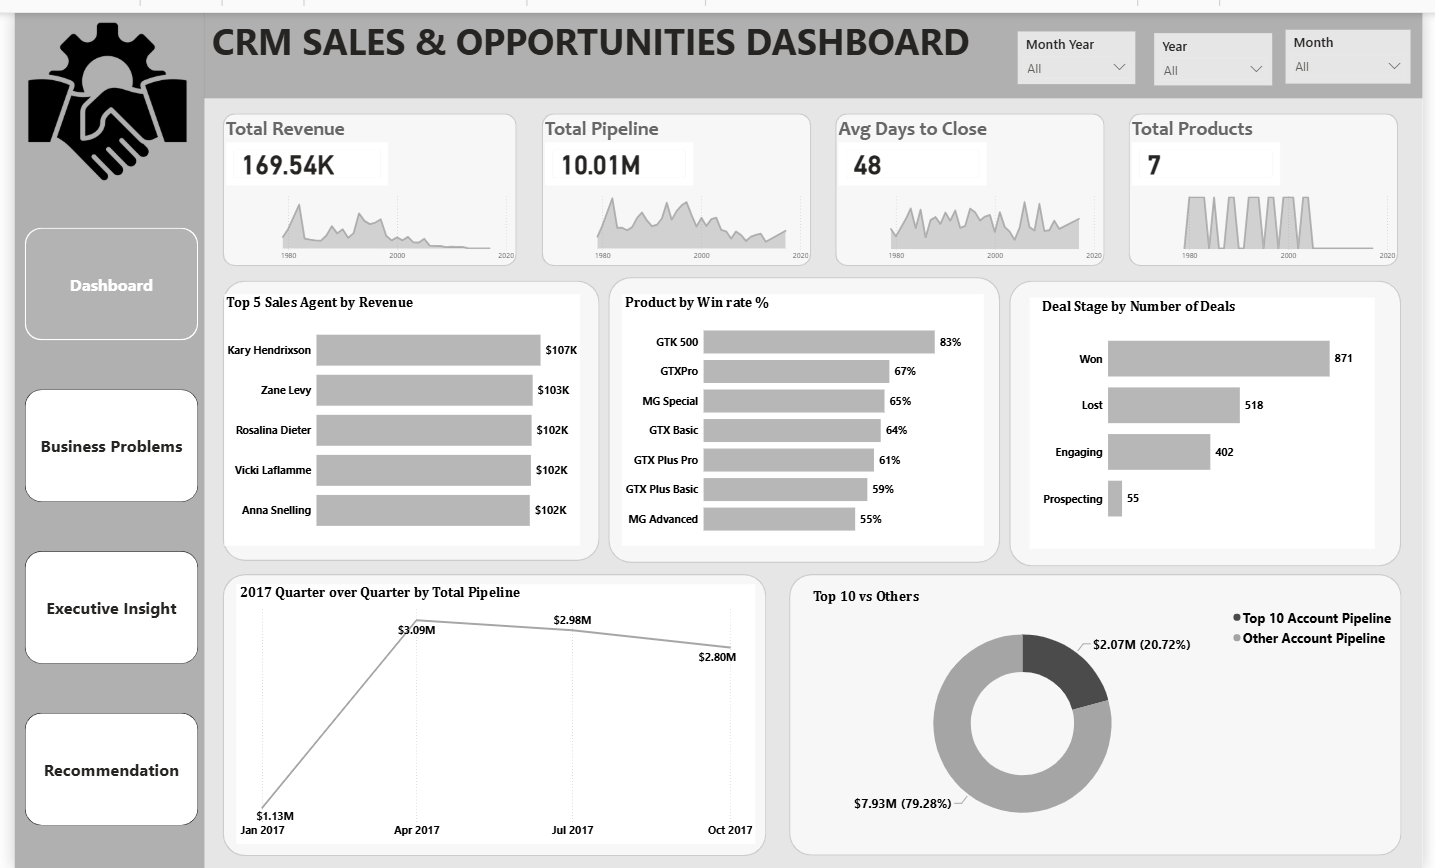

The dashboard page shown, as its layout file describes it:
{"tool":"powerbi","page":{"name":"Dashboard","canvas":[2300,1400],"ordinal":0},"visuals":[{"type":"shape","box":[0,0,310,1400],"z":0},{"type":"slicer","fields":{"Values":["Date Table.Year"]},"box":[1860.5,31.2,192.5,85],"z":0,"group":"g1"},{"type":"shape","box":[310.2,0,1989.8,139.8],"z":1000},{"type":"slicer","fields":{"Values":["Date Table.Month"]},"box":[2076,26.6,203.7,88.3],"z":1000,"group":"g1"},{"type":"slicer","fields":{"Values":["Date Table.Month Year"]},"box":[1638,30,192,86],"z":2000,"group":"g1"},{"type":"shape","box":[1820,165.5,440,249.5],"z":2000},{"type":"shape","box":[1340,165.5,440,249.5],"z":3000},{"type":"shape","box":[860,165.5,440,249.5],"z":4000},{"type":"shape","box":[340,165.5,480,249.5],"z":5000},{"type":"textbox","box":[316.3,0,1313.3,100],"z":6000},{"type":"group","id":"g1","title":"Group 1","box":[1638,26.6,641.8,89.6],"z":7000},{"type":"cardVisual","fields":{"Data":["products.Total Products"]},"box":[1820,206.1,252.2,81.2],"z":8000},{"type":"cardVisual","fields":{"Data":["sales_pipeline.Avg Days to Close"]},"box":[1340,206.1,252.2,81.2],"z":9000},{"type":"cardVisual","fields":{"Data":["sales_pipeline.Total Pipeline"]},"box":[860,206.1,252.2,81.2],"z":10000},{"type":"cardVisual","fields":{"Data":["accounts.Total Revenue"]},"box":[340,206.1,275.1,81.2],"z":11000},{"type":"textbox","box":[1820,165,371.2,77.9],"z":12000},{"type":"textbox","box":[1340,165,371.2,77.9],"z":13000},{"type":"textbox","box":[860,165,371.2,77.9],"z":14000},{"type":"textbox","box":[340,165,404.9,77.9],"z":15000},{"type":"areaChart","fields":{"Category":["accounts.year_established"],"Y":["products.Total Products"]},"box":[1820,287.3,440,127.7],"z":16000},{"type":"areaChart","fields":{"Category":["accounts.year_established"],"Y":["sales_pipeline.Avg Days to Close"]},"box":[1340,287.3,440,127.7],"z":17000},{"type":"shape","box":[340.2,436.1,615.5,457.7],"z":18000},{"type":"areaChart","fields":{"Category":["accounts.year_established"],"Y":["sales_pipeline.Total Pipeline"]},"box":[860,287.3,440,127.7],"z":19000},{"type":"areaChart","fields":{"Category":["accounts.year_established"],"Y":["accounts.Total Revenue"]},"box":[340,287.3,480,127.7],"z":20000},{"type":"clusteredBarChart","title":"Top 5 Sales Agent by Revenue","fields":{"Y":["accounts.Total Revenue"],"Category":["sales_teams.sales_agent"]},"box":[343,458.4,580.7,410.9],"z":21000},{"type":"shape","box":[340.2,915.5,887.6,460.8],"z":22000},{"type":"lineChart","title":"2017 Quarter over Quarter by Total Pipeline","fields":{"Category":["Date Table.Date.Variation.Date Hierarchy.Year","Date Table.Date.Variation.Date Hierarchy.Quarter"],"Y":["sales_pipeline.Total Pipeline"]},"box":[361.9,934,847.4,423.7],"z":23000},{"type":"shape","box":[969.2,431.9,640,466.7],"z":24000},{"type":"clusteredBarChart","title":"Product by Win rate %","fields":{"Y":["sales_pipeline.Win Rate"],"Category":["sales_pipeline.product"]},"box":[991.5,458.4,590.9,410.9],"z":25000},{"type":"shape","box":[1263.3,916.7,1000,460],"z":26000},{"type":"donutChart","title":"Top 10 vs Others","fields":{"Y":["sales_pipeline.Top 10 Account Pipeline","sales_pipeline.Other Account Pipeline"]},"box":[1296.7,933.3,963.3,423.3],"z":27000},{"type":"shape","box":[1623,437.6,640,466.7],"z":28000},{"type":"clusteredBarChart","title":"Deal Stage by Number of Deals","fields":{"Category":["sales_pipeline.deal_stage"],"Y":["sales_pipeline.No. of Deal"]},"box":[1656.3,464.3,563.3,410],"z":29000},{"type":"pageNavigator","box":[16.7,350,283.3,976.7],"z":31000},{"type":"image","box":[16.7,0,270,290],"z":32000}]}

Visuals, with their boxes in screenshot pixels (x1, y1, x2, y2), scaled from the page's 2300x1400 canvas onto the 1435x868 screenshot:
shape: 0/0/193/867
slicer - Date Table.Year: 1161/19/1281/72
shape: 194/0/1434/87
slicer - Date Table.Month: 1295/16/1422/71
slicer - Date Table.Month Year: 1022/19/1142/72
shape: 1136/103/1410/257
shape: 836/103/1111/257
shape: 537/103/811/257
shape: 212/103/512/257
textbox: 197/0/1017/62
"Group 1" group: 1022/16/1422/72
cardVisual - products.Total Products: 1136/128/1293/178
cardVisual - sales_pipeline.Avg Days to Close: 836/128/993/178
cardVisual - sales_pipeline.Total Pipeline: 537/128/694/178
cardVisual - accounts.Total Revenue: 212/128/384/178
textbox: 1136/102/1367/151
textbox: 836/102/1068/151
textbox: 537/102/768/151
textbox: 212/102/465/151
areaChart - accounts.year_established x products.Total Products: 1136/178/1410/257
areaChart - accounts.year_established x sales_pipeline.Avg Days to Close: 836/178/1111/257
shape: 212/270/596/554
areaChart - accounts.year_established x sales_pipeline.Total Pipeline: 537/178/811/257
areaChart - accounts.year_established x accounts.Total Revenue: 212/178/512/257
"Top 5 Sales Agent by Revenue" clusteredBarChart: 214/284/576/539
shape: 212/568/766/853
"2017 Quarter over Quarter by Total Pipeline" lineChart: 226/579/754/842
shape: 605/268/1004/557
"Product by Win rate %" clusteredBarChart: 619/284/987/539
shape: 788/568/1412/854
"Top 10 vs Others" donutChart: 809/579/1410/841
shape: 1013/271/1412/561
"Deal Stage by Number of Deals" clusteredBarChart: 1033/288/1385/542
pageNavigator: 10/217/187/823
image: 10/0/179/180
